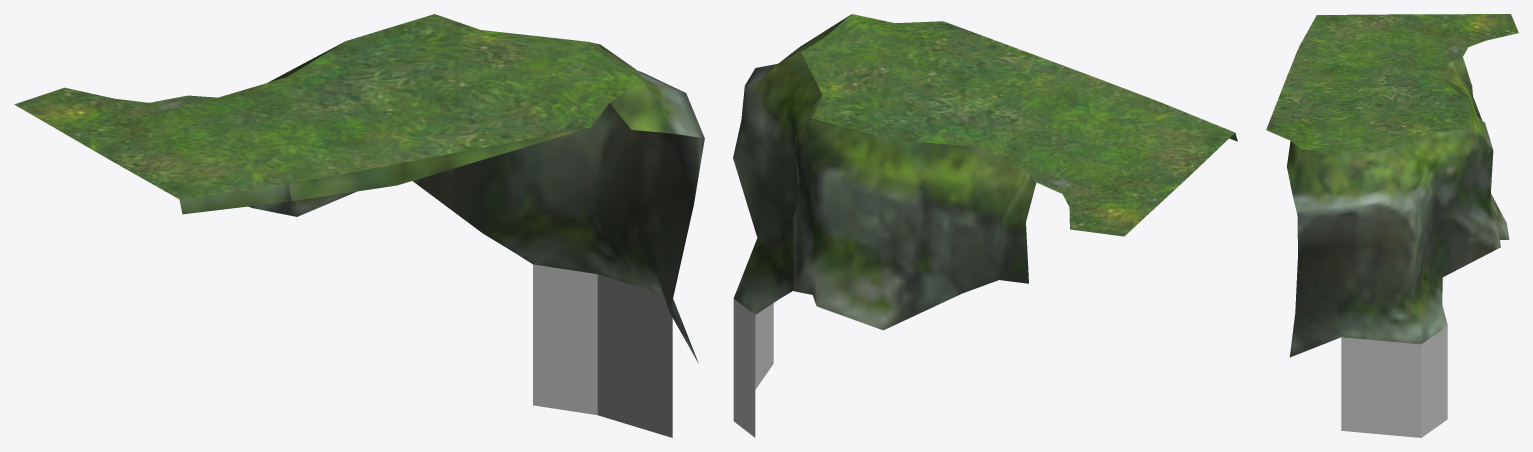
The model's file is S_Rock_Green058_A2.FBX.
The picture shows the model from 3 angles, left to right: view 1: azimuth 30°, elevation 25°; view 2: azimuth 150°, elevation 25°; view 3: azimuth 270°, elevation 25°; orthographic projection. The views are drawn at different scales.
Parts seen in each view (by area): view 1: S_Rock_Green058_A2_1, S_Rock_Green058_A2_2; view 2: S_Rock_Green058_A2_1, S_Rock_Green058_A2_2; view 3: S_Rock_Green058_A2_1, S_Rock_Green058_A2_2.
Part boxes in pixels (bbox=[...]): S_Rock_Green058_A2_1: bbox=[179, 42, 704, 437]; S_Rock_Green058_A2_2: bbox=[14, 14, 641, 199]; S_Rock_Green058_A2_1: bbox=[733, 15, 1237, 437]; S_Rock_Green058_A2_2: bbox=[801, 14, 1234, 236]; S_Rock_Green058_A2_1: bbox=[1287, 50, 1509, 437]; S_Rock_Green058_A2_2: bbox=[1266, 14, 1518, 152].
Size of the model in its own units: 1011 by 727 by 609.
